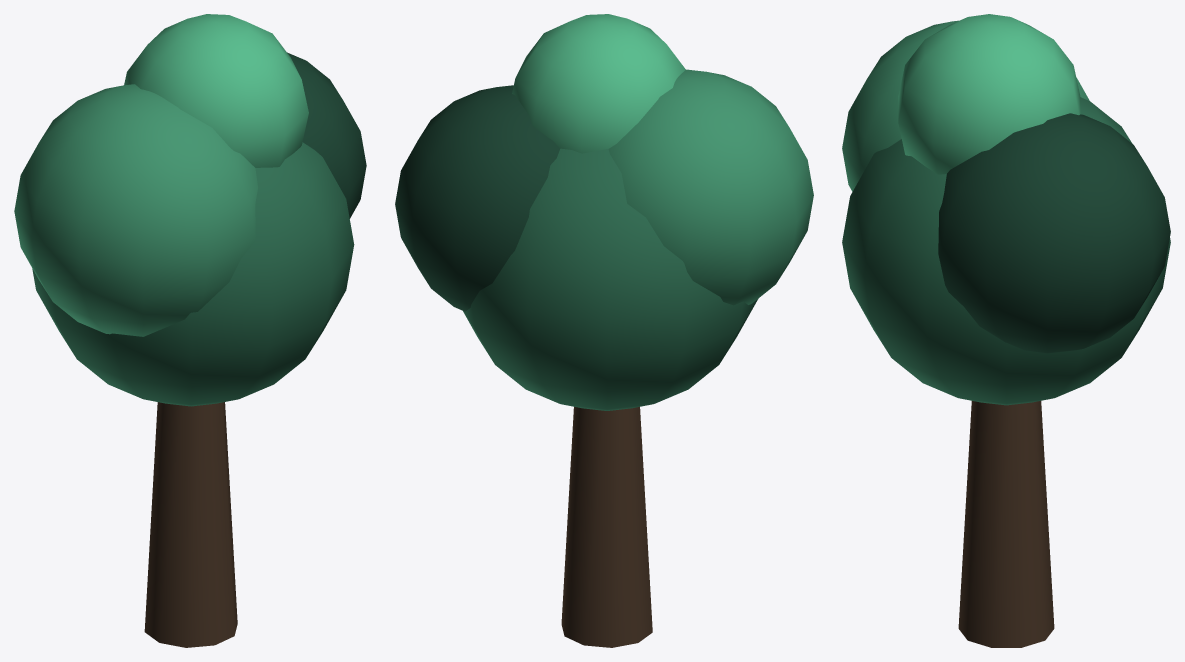
File: tree.glb
3 views of the same model, side by side, from view 1: azimuth 30°, elevation 25°; view 2: azimuth 150°, elevation 25°; view 3: azimuth 270°, elevation 25° (orthographic). The views are drawn at different scales.
Visible parts, largest first — view 1: tree; view 2: tree; view 3: tree.
Boxes of the visible parts, x1,y1,x2,y2 form: tree: (14,14,366,647); tree: (395,14,813,647); tree: (842,14,1170,647).
Bounding box in the file's own units: 1.21 × 1.97 × 0.96.
